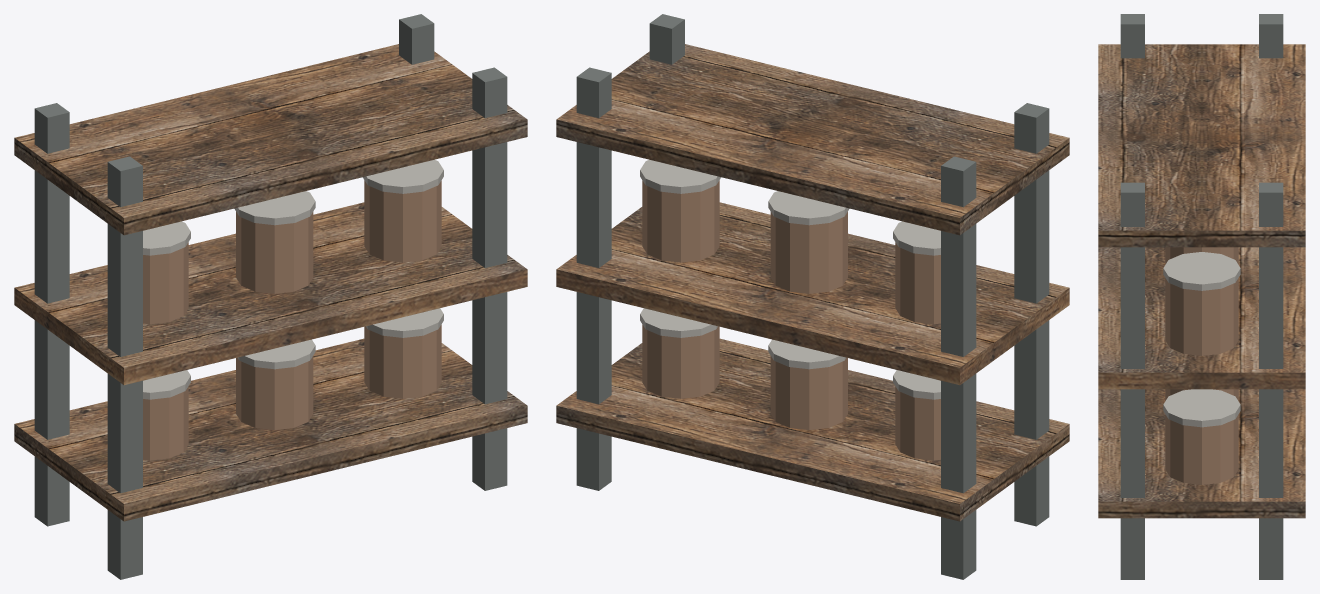
Rendered from oelregal.glb.
3 views of the same model, side by side, from view 1: azimuth 30°, elevation 25°; view 2: azimuth 150°, elevation 25°; view 3: azimuth 270°, elevation 25° (orthographic). The views are drawn at different scales.
Parts seen in each view (by area): view 1: oelregal_n7, oelregal_n6, oelregal_n5, oelregal_n2, oelregal_n4, oelregal_n1, oelregal_n18, oelregal_n16, oelregal_n12, oelregal_n10, oelregal_n14, oelregal_n8 (+7 smaller); view 2: oelregal_n7, oelregal_n6, oelregal_n5, oelregal_n1, oelregal_n3, oelregal_n2, oelregal_n18, oelregal_n16, oelregal_n12, oelregal_n10, oelregal_n14, oelregal_n8 (+7 smaller); view 3: oelregal_n7, oelregal_n6, oelregal_n5, oelregal_n3, oelregal_n4, oelregal_n18, oelregal_n12, oelregal_n19, oelregal_n13, oelregal_n1, oelregal_n2, oelregal_n16.
Part boxes in pixels (box(x1,y1,x2,y2)): oelregal_n7: box(14, 44, 527, 235); oelregal_n6: box(14, 202, 527, 385); oelregal_n5: box(14, 338, 527, 521); oelregal_n2: box(107, 156, 142, 579); oelregal_n4: box(472, 67, 507, 490); oelregal_n1: box(34, 103, 69, 526); oelregal_n18: box(364, 180, 441, 262); oelregal_n16: box(236, 212, 313, 293); oelregal_n12: box(364, 324, 441, 398); oelregal_n10: box(236, 356, 313, 429); oelregal_n14: box(143, 242, 188, 324); oelregal_n8: box(143, 386, 188, 460); oelregal_n7: box(556, 44, 1069, 235); oelregal_n6: box(556, 202, 1069, 385); oelregal_n5: box(556, 338, 1069, 521); oelregal_n1: box(941, 156, 976, 579); oelregal_n3: box(576, 67, 611, 490); oelregal_n2: box(1014, 103, 1049, 526); oelregal_n18: box(642, 180, 719, 262); oelregal_n16: box(770, 212, 847, 293); oelregal_n12: box(642, 324, 719, 398); oelregal_n10: box(770, 356, 847, 429); oelregal_n14: box(895, 242, 940, 324); oelregal_n8: box(895, 386, 940, 460); oelregal_n7: box(1098, 44, 1305, 247); oelregal_n6: box(1098, 247, 1305, 389); oelregal_n5: box(1098, 389, 1305, 518); oelregal_n3: box(1259, 182, 1283, 579); oelregal_n4: box(1120, 182, 1144, 579); oelregal_n18: box(1165, 278, 1238, 355); oelregal_n12: box(1165, 414, 1238, 484); oelregal_n19: box(1163, 252, 1240, 290); oelregal_n13: box(1163, 389, 1240, 427); oelregal_n1: box(1259, 14, 1283, 58); oelregal_n2: box(1120, 14, 1144, 58); oelregal_n16: box(1165, 247, 1238, 264).
Size of the model in its own units: 2.17 by 2.1 by 1.02.
1 material, 1 textured.
